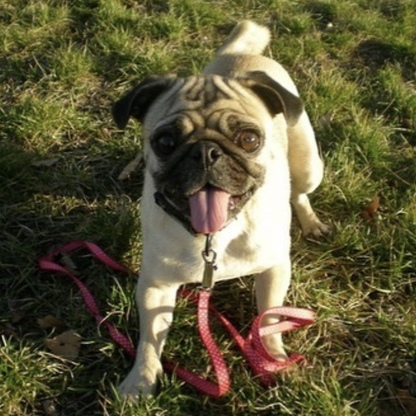Pug: (105, 14, 334, 406)
